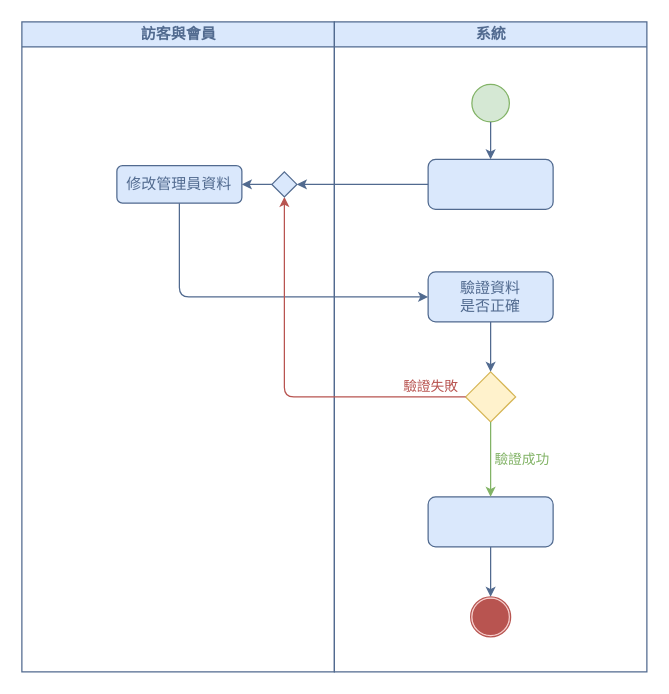
Image size: 669x694. Some labels were removed from this diagram. Here are the shapes that lost their labels. From the top down, the centre of each, then its label:
At (490,183): "顯示修改 管理員資料畫面".
At (490,521): "保存資料 至資料庫".
